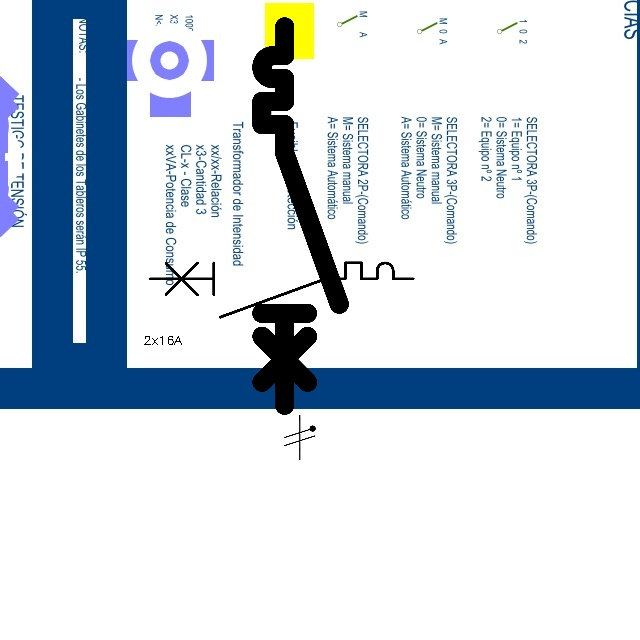interruptor_termomagnetico: (252, 17, 349, 414), (143, 256, 420, 323)
